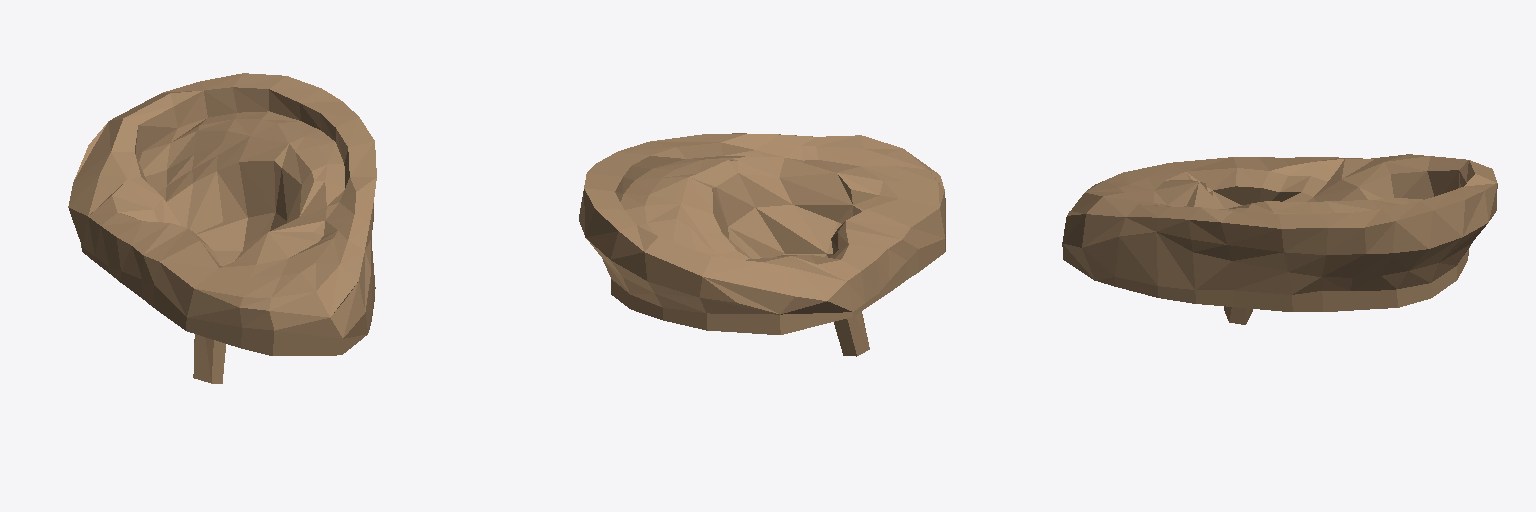
The model's file is EAR.obj.
The picture shows the model from 3 angles: view 1: azimuth 30°, elevation 25°; view 2: azimuth 150°, elevation 25°; view 3: azimuth 270°, elevation 25°; orthographic projection.
Size of the model in its own units: 0.2025 by 0.1462 by 0.2946.